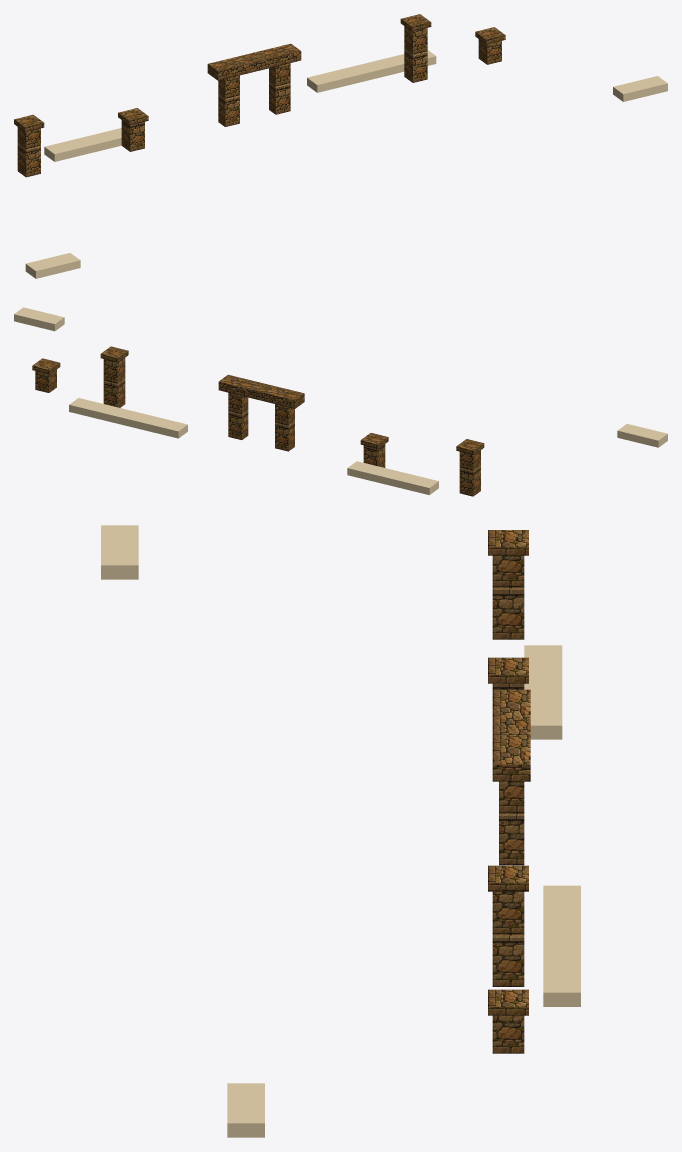
File: st_sand.glb
The picture shows the model from 3 angles, top to bottom: view 1: azimuth 30°, elevation 25°; view 2: azimuth 150°, elevation 25°; view 3: azimuth 270°, elevation 25°; orthographic projection. The views are drawn at different scales.
Visible parts, largest first — view 1: stone, sand; view 2: stone, sand; view 3: stone, sand.
Boxes of the visible parts, x1=… form: stone: x1=14, y1=14, x2=505, y2=177; sand: x1=25, y1=50, x2=667, y2=278; stone: x1=32, y1=346, x2=484, y2=496; sand: x1=14, y1=307, x2=667, y2=494; stone: x1=488, y1=530, x2=530, y2=1053; sand: x1=101, y1=525, x2=580, y2=1137.
Size of the model in its own units: 448 by 38.01 by 152.
Materials: 2 (1 with a texture image).
